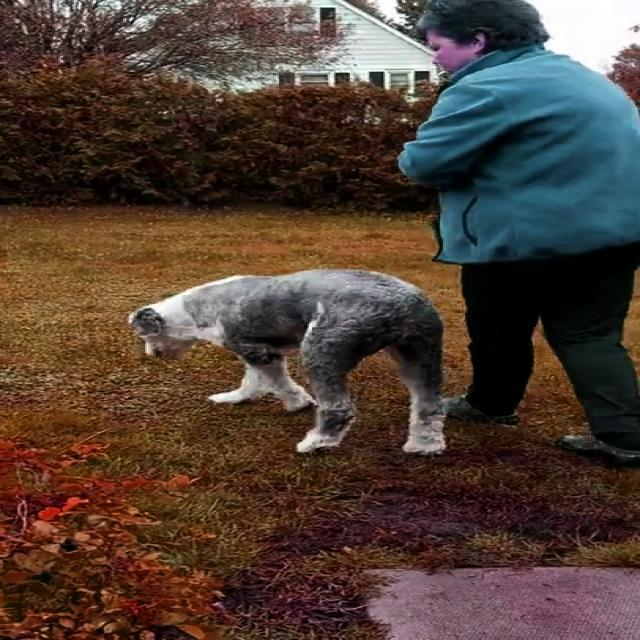Unleashed_Dog: (125, 229, 598, 455)
